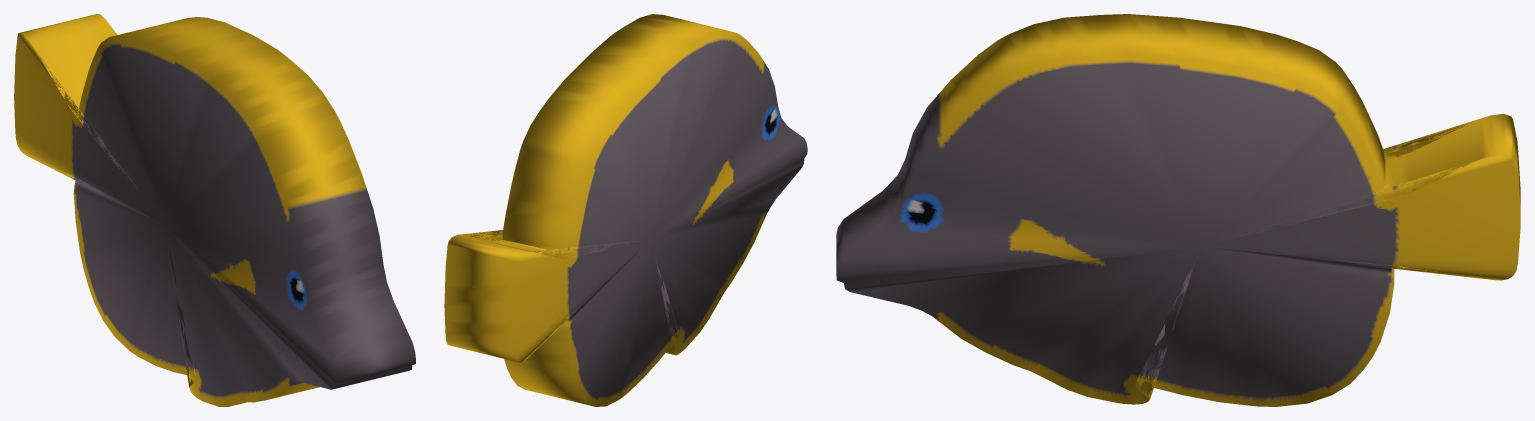
File: browntang.glb
3 renders of one model, left to right at view 1: azimuth 30°, elevation 25°; view 2: azimuth 150°, elevation 25°; view 3: azimuth 270°, elevation 25°, orthographic. The views are drawn at different scales.
Parts seen in each view (by area): view 1: browntang; view 2: browntang; view 3: browntang.
Part boxes in pixels (x1,y1,x2,y2): browntang: (14,14,415,406); browntang: (444,14,807,406); browntang: (836,14,1520,406).
Size of the model in its own units: 0.2521 by 1.02 by 1.8.
